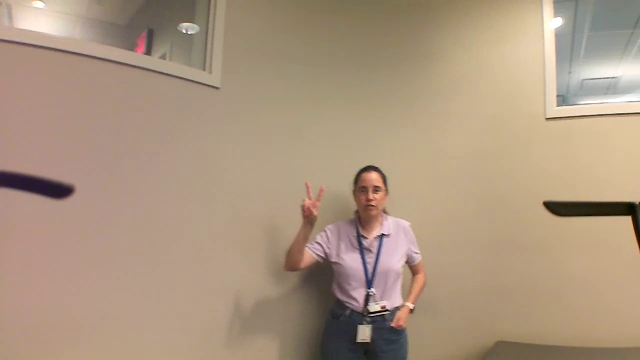peace: (297, 177, 330, 224)
